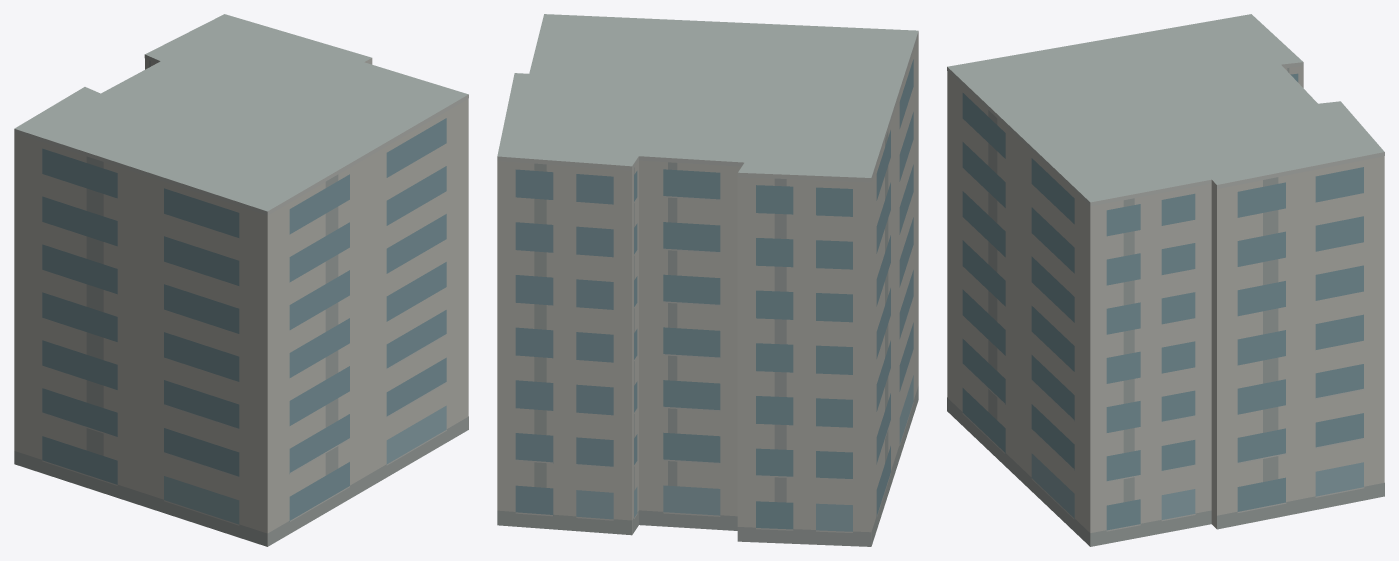
The model's file is survey-upis-32865355.glb.
3 views of the same model, side by side, from view 1: azimuth 30°, elevation 25°; view 2: azimuth 150°, elevation 25°; view 3: azimuth 270°, elevation 25° (orthographic). The views are drawn at different scales.
Parts seen in each view (by area): view 1: survey-upis-32865355.tmp; view 2: survey-upis-32865355.tmp; view 3: survey-upis-32865355.tmp.
Boxes of the visible parts, x1,y1,x2,y2 form: survey-upis-32865355.tmp: (14, 14, 468, 546); survey-upis-32865355.tmp: (497, 14, 918, 546); survey-upis-32865355.tmp: (947, 14, 1384, 546).
Bounding box in the file's own units: 24.09 × 20.52 × 23.64.
